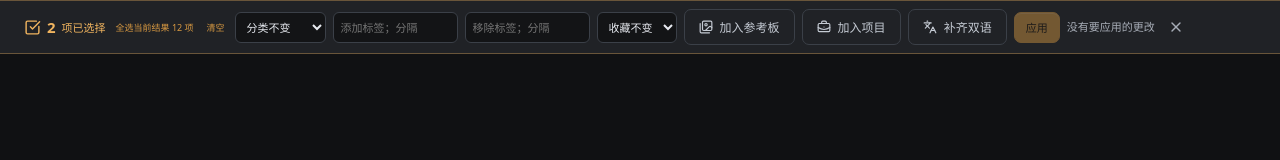
Test case: BatchToolbar › shows an identical-value reason separately from an illegal request
Select "设为收藏" in the dropdown named "批量收藏" at (637, 27), box [597, 12, 677, 42]
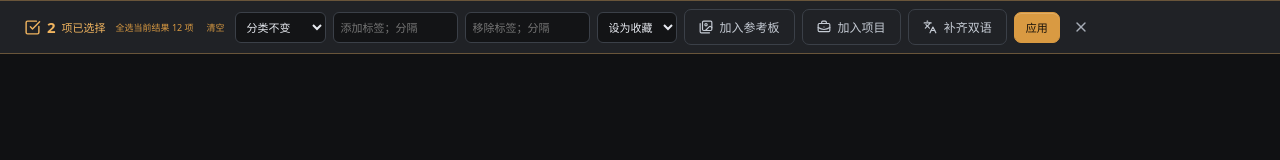
Click the button "应用" at (1037, 27), box [1014, 12, 1060, 42]
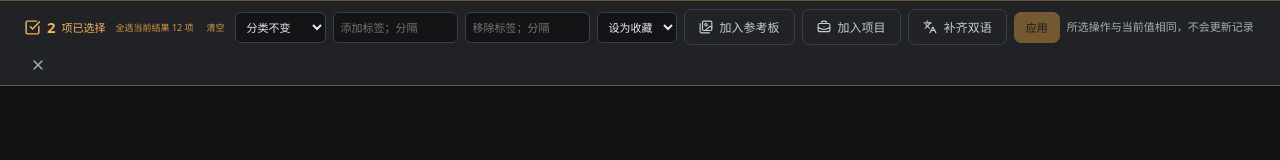
Check: the text "没有要应用的更改" is not shown
Check: the message reads "所选操作与当前值相同，不会更新记录", box [1067, 19, 1254, 34]
Check: the button "应用" is disabled, box [1014, 12, 1060, 42]
Select "取消收藏" in the dropdown named "批量收藏" at (637, 27), box [597, 12, 677, 42]
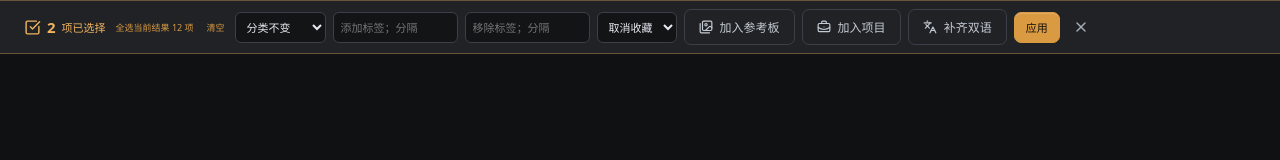
Click the button "应用" at (1037, 27), box [1014, 12, 1060, 42]
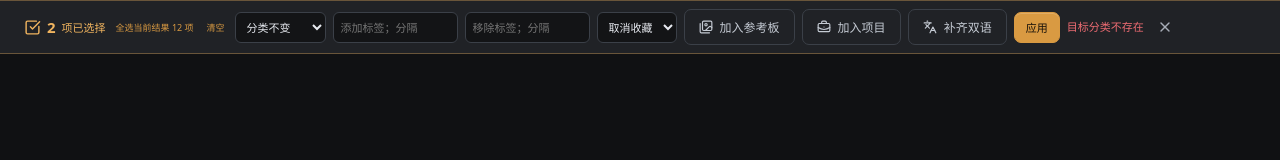
Check: the text "没有要应用的更改" is not shown
Check: the message reads "目标分类不存在", box [1067, 19, 1144, 34]
